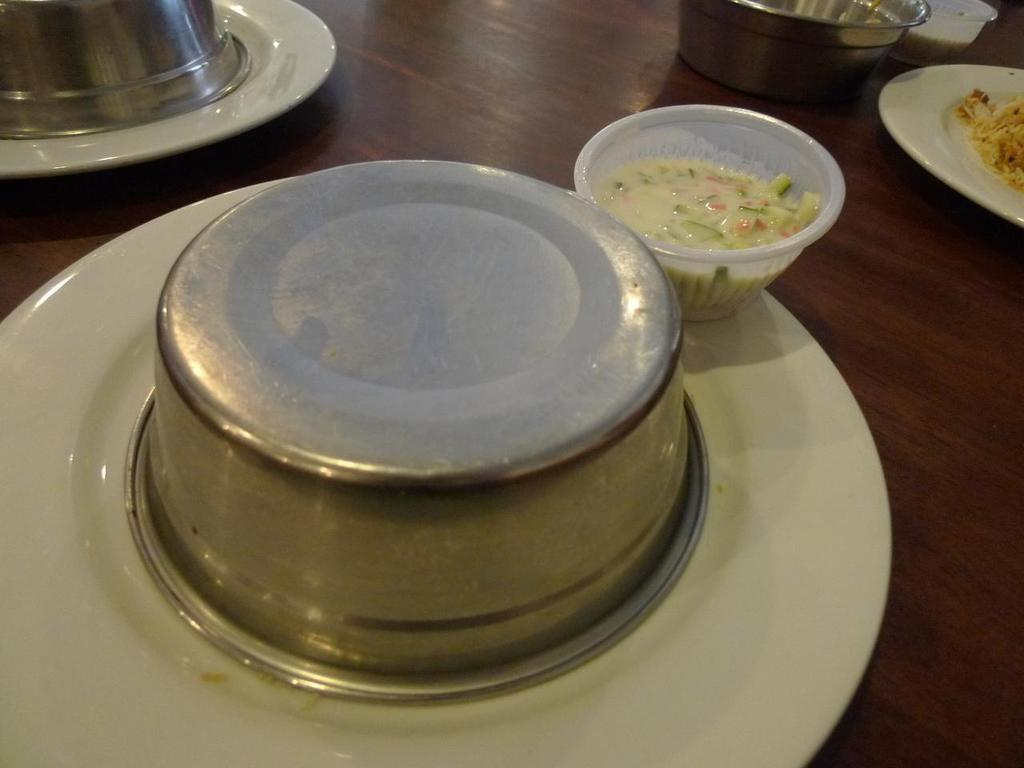plate: (0, 177, 892, 767)
